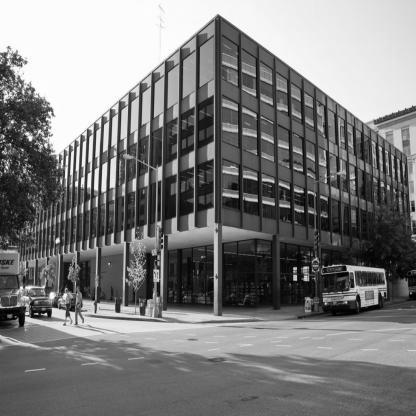bus: (321, 250, 393, 324)
